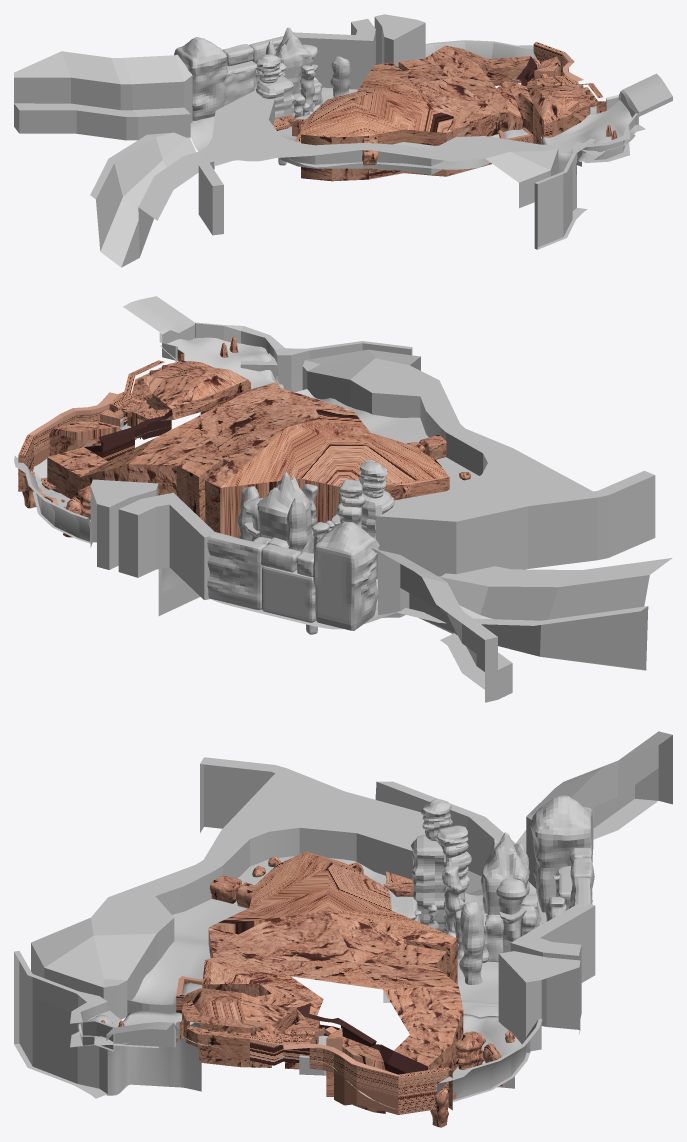
The model's file is env_level02_canyonFullV7.fbx.
The picture shows the model from 3 angles, top to bottom: view 1: azimuth 30°, elevation 25°; view 2: azimuth 150°, elevation 25°; view 3: azimuth 270°, elevation 25°; orthographic projection. The views are drawn at different scales.
Parts seen in each view (by area): view 1: polySurface2, pCube46, pCube62, polySurface4, pCube76, pCube25, PM3D_rock001_001:Group38151, pCube125, pCube47, pCube64, pCube102, pCube123 (+10 smaller); view 2: polySurface2, pCube62, polySurface4, pCube46, pCube25, PM3D_rock001_001:Group38151, PM3D_rock001_008:Group38156, pCube76, pCube47, pCube125, PM3D_rock001_007:Group38907, pCube123 (+11 smaller); view 3: polySurface2, pCube62, pCube76, pCube46, pCube47, pCube123, pCube125, PM3D_rock001_001:Group38151, pCube25, polySurface4, PM3D_rock020_003:Group40194, pCube102 (+15 smaller).
Part boxes in pixels (x1,y1,x2,y2): polySurface2: [301, 42, 606, 181]; pCube46: [14, 51, 192, 140]; pCube62: [198, 90, 558, 235]; polySurface4: [90, 132, 232, 267]; pCube76: [534, 113, 637, 249]; pCube25: [293, 18, 375, 89]; PM3D_rock001_001:Group38151: [174, 37, 227, 120]; pCube125: [541, 100, 645, 174]; pCube47: [374, 14, 425, 67]; pCube64: [606, 73, 672, 124]; pCube102: [425, 40, 536, 59]; pCube123: [277, 124, 530, 169]; polySurface2: [18, 349, 449, 538]; pCube62: [302, 349, 655, 578]; polySurface4: [397, 558, 672, 670]; pCube46: [371, 548, 512, 702]; pCube25: [118, 492, 214, 599]; PM3D_rock001_001:Group38151: [313, 522, 379, 630]; PM3D_rock001_008:Group38156: [207, 531, 266, 609]; pCube76: [194, 322, 412, 392]; pCube47: [90, 479, 158, 569]; pCube125: [160, 337, 283, 389]; PM3D_rock001_007:Group38907: [262, 566, 315, 622]; pCube123: [295, 389, 478, 489]; polySurface2: [176, 851, 463, 1114]; pCube62: [31, 757, 425, 1019]; pCube76: [14, 951, 115, 1098]; pCube46: [516, 731, 672, 888]; pCube47: [498, 951, 580, 1051]; pCube123: [127, 856, 390, 1014]; pCube125: [78, 1011, 201, 1095]; PM3D_rock001_001:Group38151: [530, 795, 593, 912]; pCube25: [510, 903, 595, 1018]; polySurface4: [375, 781, 515, 895]; PM3D_rock020_003:Group40194: [410, 834, 446, 931]; pCube102: [436, 1019, 542, 1101].
Size of the model in its own units: 60924 by 17159 by 50583.
